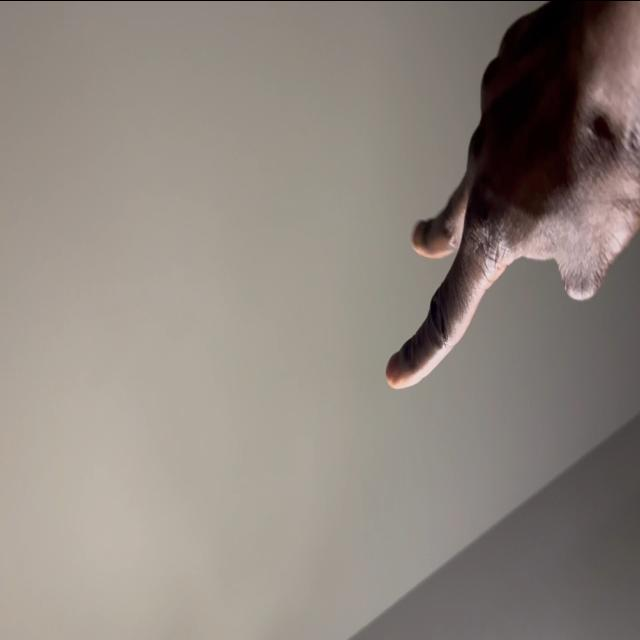Scissors: (382, 0, 639, 390)
